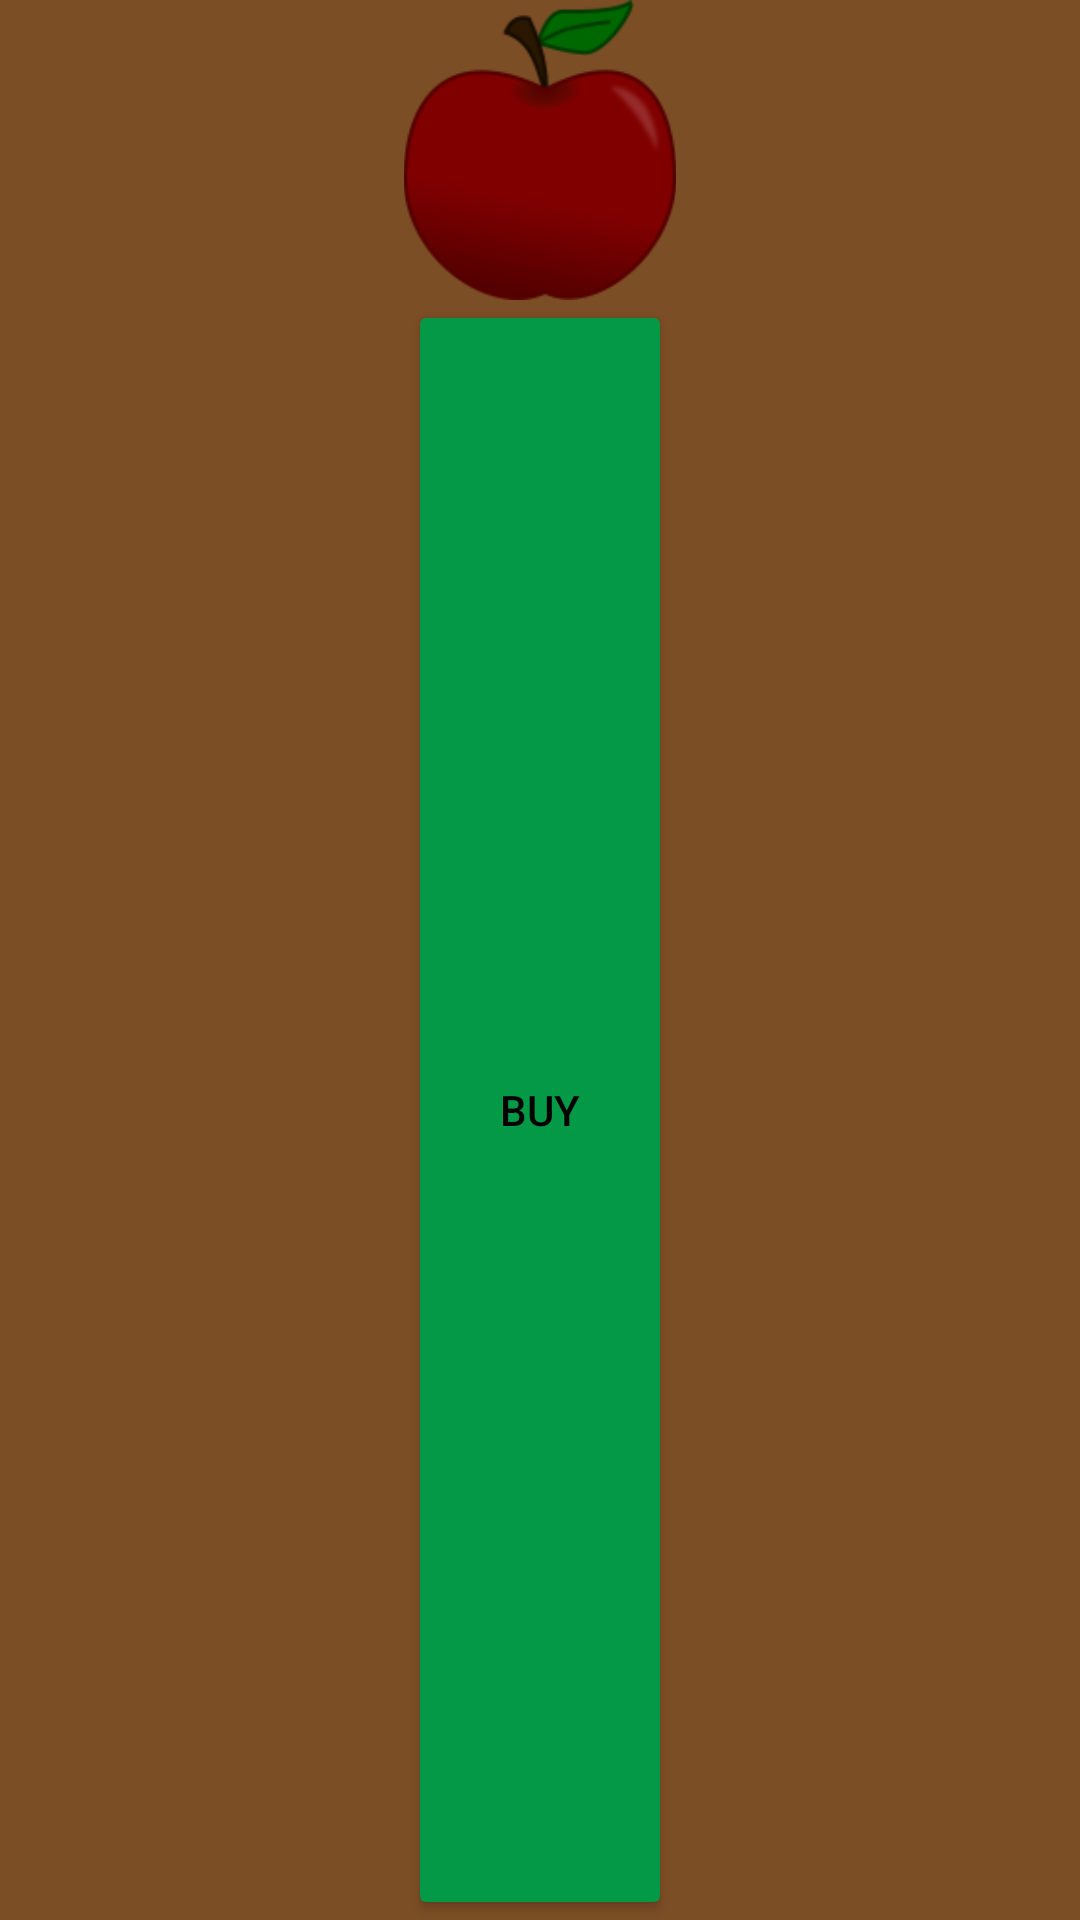

Named icons in this screenshot (1080px×1920px) and their bounding boxes, (x1, y1, x2, y2):
apple: (404, 0, 676, 300)
